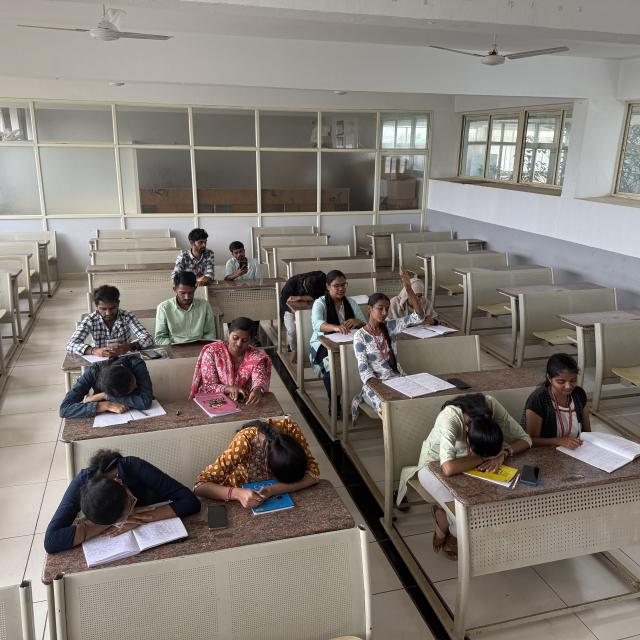Hand Rising: (357, 264, 421, 362)
Reading: (156, 267, 216, 348)
Sleeping: (42, 449, 200, 532), (196, 418, 321, 492), (428, 393, 532, 459), (63, 356, 156, 415), (280, 268, 329, 300)
Using Phone: (202, 316, 272, 408), (69, 285, 143, 361), (391, 280, 448, 323), (226, 242, 263, 278)
Writing: (525, 350, 608, 452)
